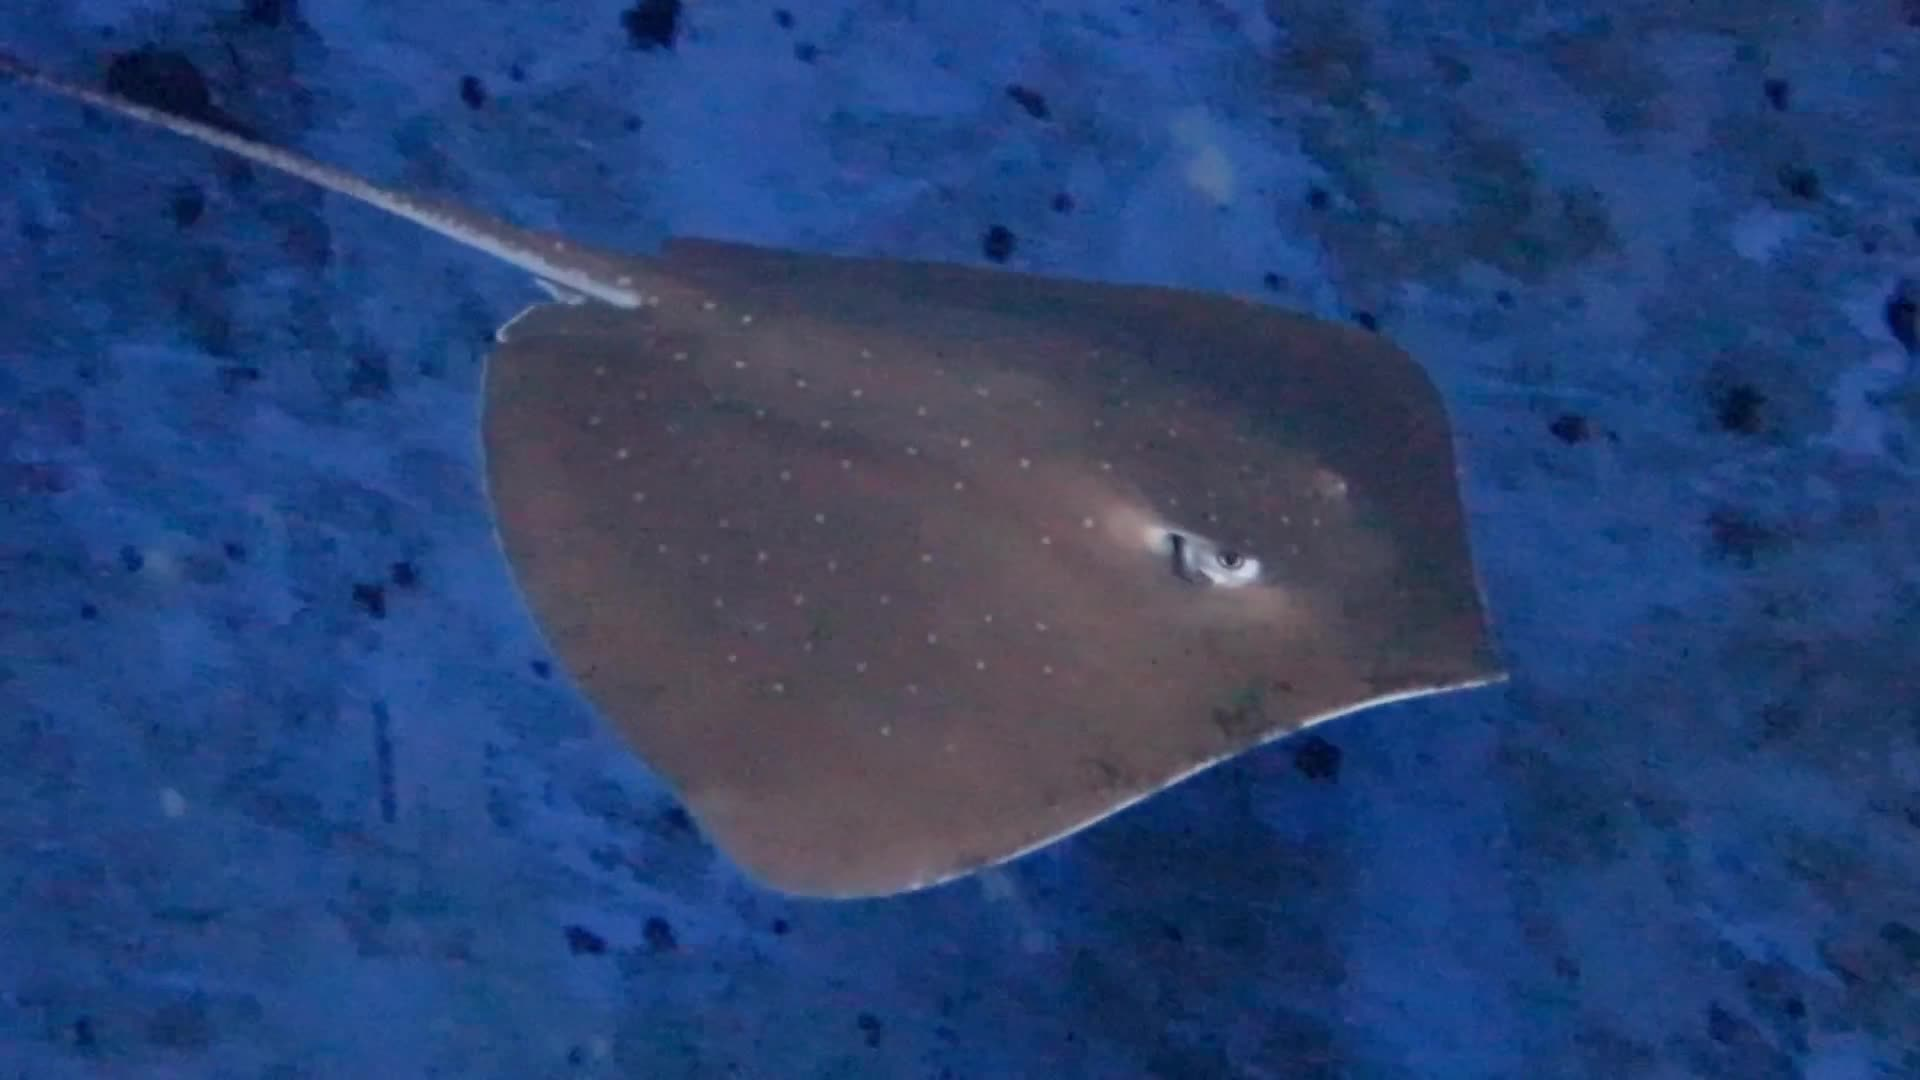Himantura gerrardi: (90, 55, 1648, 965)
